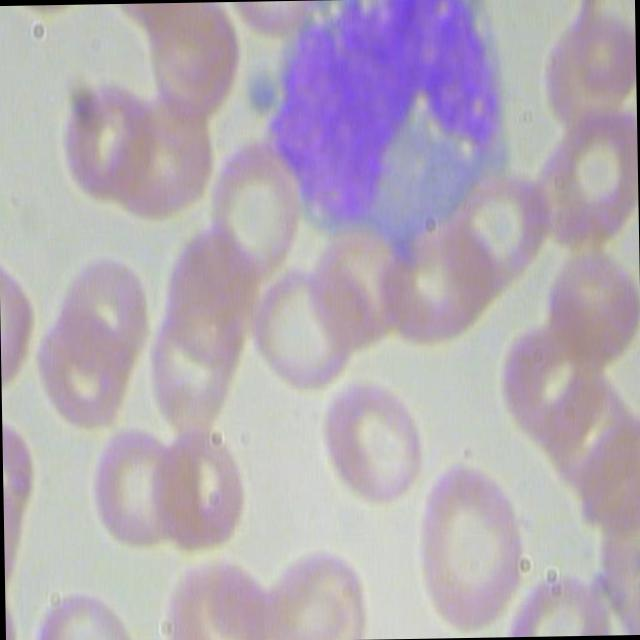RBC: (414, 456, 530, 630), (144, 422, 260, 558), (312, 369, 428, 504), (77, 420, 193, 555), (157, 225, 266, 364), (33, 298, 138, 437), (258, 260, 356, 394), (543, 231, 640, 365), (60, 77, 162, 202), (52, 240, 154, 364), (111, 94, 213, 218), (539, 0, 636, 125)
WBC: (274, 0, 517, 260)
